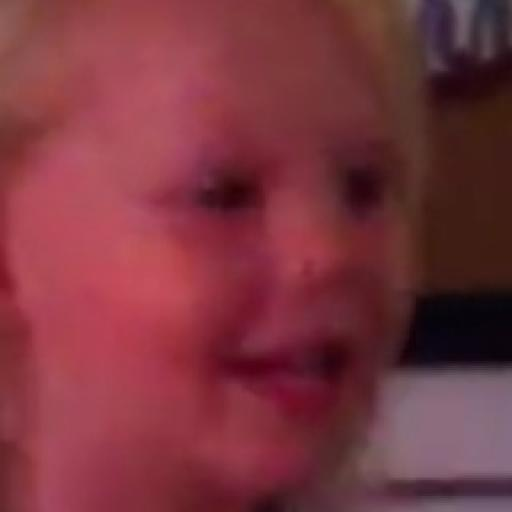Autism: (51, 0, 422, 465)
